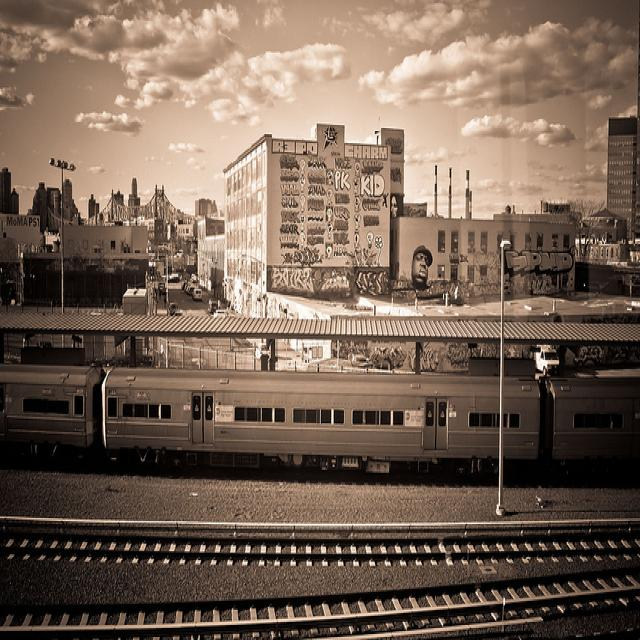Vehicle: (207, 298, 221, 315), (192, 288, 204, 301), (170, 302, 180, 314), (214, 310, 228, 318), (168, 276, 180, 284), (188, 287, 198, 295), (186, 285, 193, 295), (182, 281, 187, 289)
